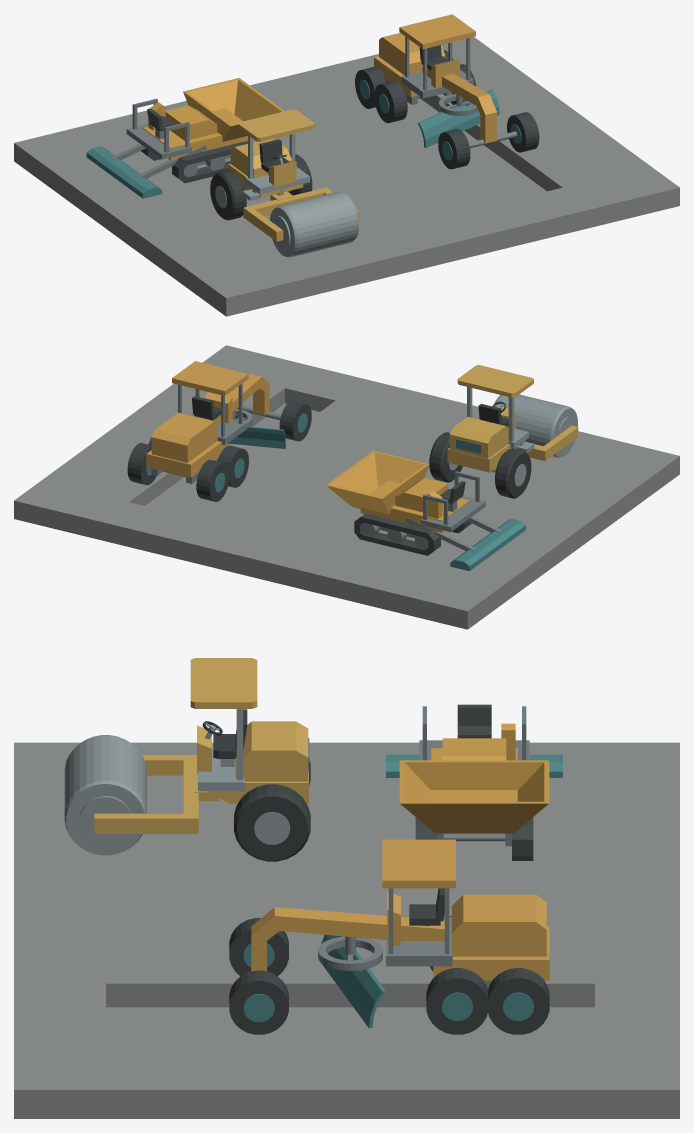
The picture shows the model from 3 angles, top to bottom: view 1: azimuth 30°, elevation 25°; view 2: azimuth 150°, elevation 25°; view 3: azimuth 270°, elevation 25°; orthographic projection. The views are drawn at different scales.
Parts seen in each view (by area): view 1: SceneOnlyRoadYardTrenchedSlab, roller__WholeWideFrontSteelDrum, paver__WholeFrontFlaredReceivingHopper, grader__WholeStationRoof, roller__WholeShortOverheadCanopy, grader__WholeHighArchedFrontMainBeam, paver__WholeWideRearScreedExterior, grader__WholeAngledCurvedMoldboard, roller__WholeOpenFrontDrumFork, grader__WholeSlopedRearEngineCover, roller__WholeLeftRearTyre, paver__WholeMainChassis (+13 smaller); view 2: SceneOnlyRoadYardTrenchedSlab, paver__WholeFrontFlaredReceivingHopper, roller__WholeWideFrontSteelDrum, grader__WholeSlopedRearEngineCover, roller__WholeCompactSlopedRearBonnet, paver__WholeRightTrackLoop, grader__WholeStationRoof, roller__WholeShortOverheadCanopy, paver__WholeWideRearScreedExterior, roller__WholeLeftRearTyre, grader__WholeRearPowerChassis, grader__WholeHighArchedFrontMainBeam (+13 smaller); view 3: SceneOnlyRoadYardTrenchedSlab, paver__WholeFrontFlaredReceivingHopper, roller__WholeWideFrontSteelDrum, grader__WholeSlopedRearEngineCover, grader__WholeHighArchedFrontMainBeam, roller__WholeRightRearTyre, roller__WholeCompactSlopedRearBonnet, roller__WholeOpenFrontDrumFork, grader__WholeStationRoof, roller__WholeShortOverheadCanopy, grader__WholeRightRearAftTyre, grader__WholeRightRearForwardTyre (+17 smaller).
Part boxes in pixels (x1,y1,x2,y2): SceneOnlyRoadYardTrenchedSlab: [14, 37, 679, 316]; roller__WholeWideFrontSteelDrum: [270, 191, 358, 257]; paver__WholeFrontFlaredReceivingHopper: [183, 78, 284, 141]; grader__WholeStationRoof: [399, 14, 475, 49]; roller__WholeShortOverheadCanopy: [238, 109, 314, 141]; grader__WholeHighArchedFrontMainBeam: [422, 65, 496, 143]; paver__WholeWideRearScreedExterior: [86, 146, 162, 198]; grader__WholeAngledCurvedMoldboard: [418, 89, 499, 147]; roller__WholeOpenFrontDrumFork: [243, 187, 359, 241]; grader__WholeSlopedRearEngineCover: [379, 33, 445, 75]; roller__WholeLeftRearTyre: [210, 170, 246, 220]; paver__WholeMainChassis: [143, 108, 247, 160]; SceneOnlyRoadYardTrenchedSlab: [14, 345, 679, 629]; paver__WholeFrontFlaredReceivingHopper: [326, 450, 429, 514]; roller__WholeWideFrontSteelDrum: [494, 394, 577, 457]; grader__WholeSlopedRearEngineCover: [151, 412, 217, 462]; roller__WholeCompactSlopedRearBonnet: [449, 417, 508, 458]; paver__WholeRightTrackLoop: [354, 513, 440, 555]; grader__WholeStationRoof: [172, 361, 248, 395]; roller__WholeShortOverheadCanopy: [457, 365, 533, 397]; paver__WholeWideRearScreedExterior: [450, 518, 525, 571]; roller__WholeLeftRearTyre: [495, 448, 531, 498]; grader__WholeRearPowerChassis: [146, 441, 227, 477]; grader__WholeHighArchedFrontMainBeam: [201, 373, 269, 425]; SceneOnlyRoadYardTrenchedSlab: [14, 742, 679, 1118]; paver__WholeFrontFlaredReceivingHopper: [399, 760, 549, 833]; roller__WholeWideFrontSteelDrum: [64, 735, 146, 855]; grader__WholeSlopedRearEngineCover: [452, 894, 546, 956]; grader__WholeHighArchedFrontMainBeam: [251, 907, 444, 971]; roller__WholeRightRearTyre: [234, 784, 310, 861]; roller__WholeCompactSlopedRearBonnet: [235, 721, 308, 781]; roller__WholeOpenFrontDrumFork: [94, 755, 198, 833]; grader__WholeStationRoof: [382, 839, 455, 888]; roller__WholeShortOverheadCanopy: [190, 658, 257, 708]; grader__WholeRightRearAftTyre: [487, 968, 549, 1034]; grader__WholeRightRearForwardTyre: [426, 968, 488, 1034].
Bounding box in the file's own units: 11.6 × 2.82 × 9.4.
